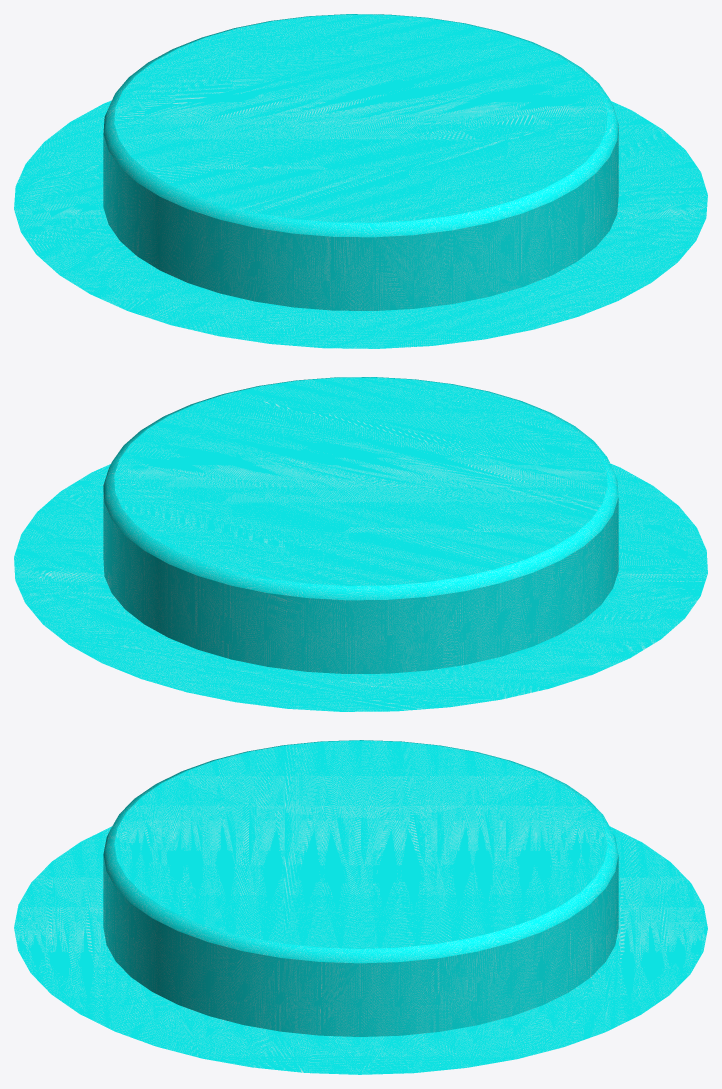
File: original-7.obj
The picture shows the model from 3 angles, top to bottom: view 1: azimuth 30°, elevation 25°; view 2: azimuth 150°, elevation 25°; view 3: azimuth 270°, elevation 25°; orthographic projection.
Visible parts, largest first — view 1: mesh4/mesh4-geometry#mesh4-geometry; view 2: mesh4/mesh4-geometry#mesh4-geometry; view 3: mesh4/mesh4-geometry#mesh4-geometry.
Boxes of the visible parts, <box> form: mesh4/mesh4-geometry#mesh4-geometry: <box>14,14,707,348</box>; mesh4/mesh4-geometry#mesh4-geometry: <box>14,377,707,711</box>; mesh4/mesh4-geometry#mesh4-geometry: <box>14,740,707,1074</box>.
Size of the model in its own units: 0.405 by 0.0538 by 0.405.
